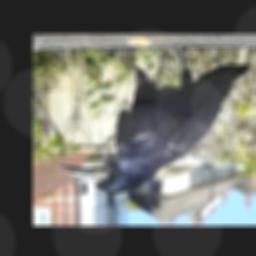Crow: (58, 46, 250, 196)
